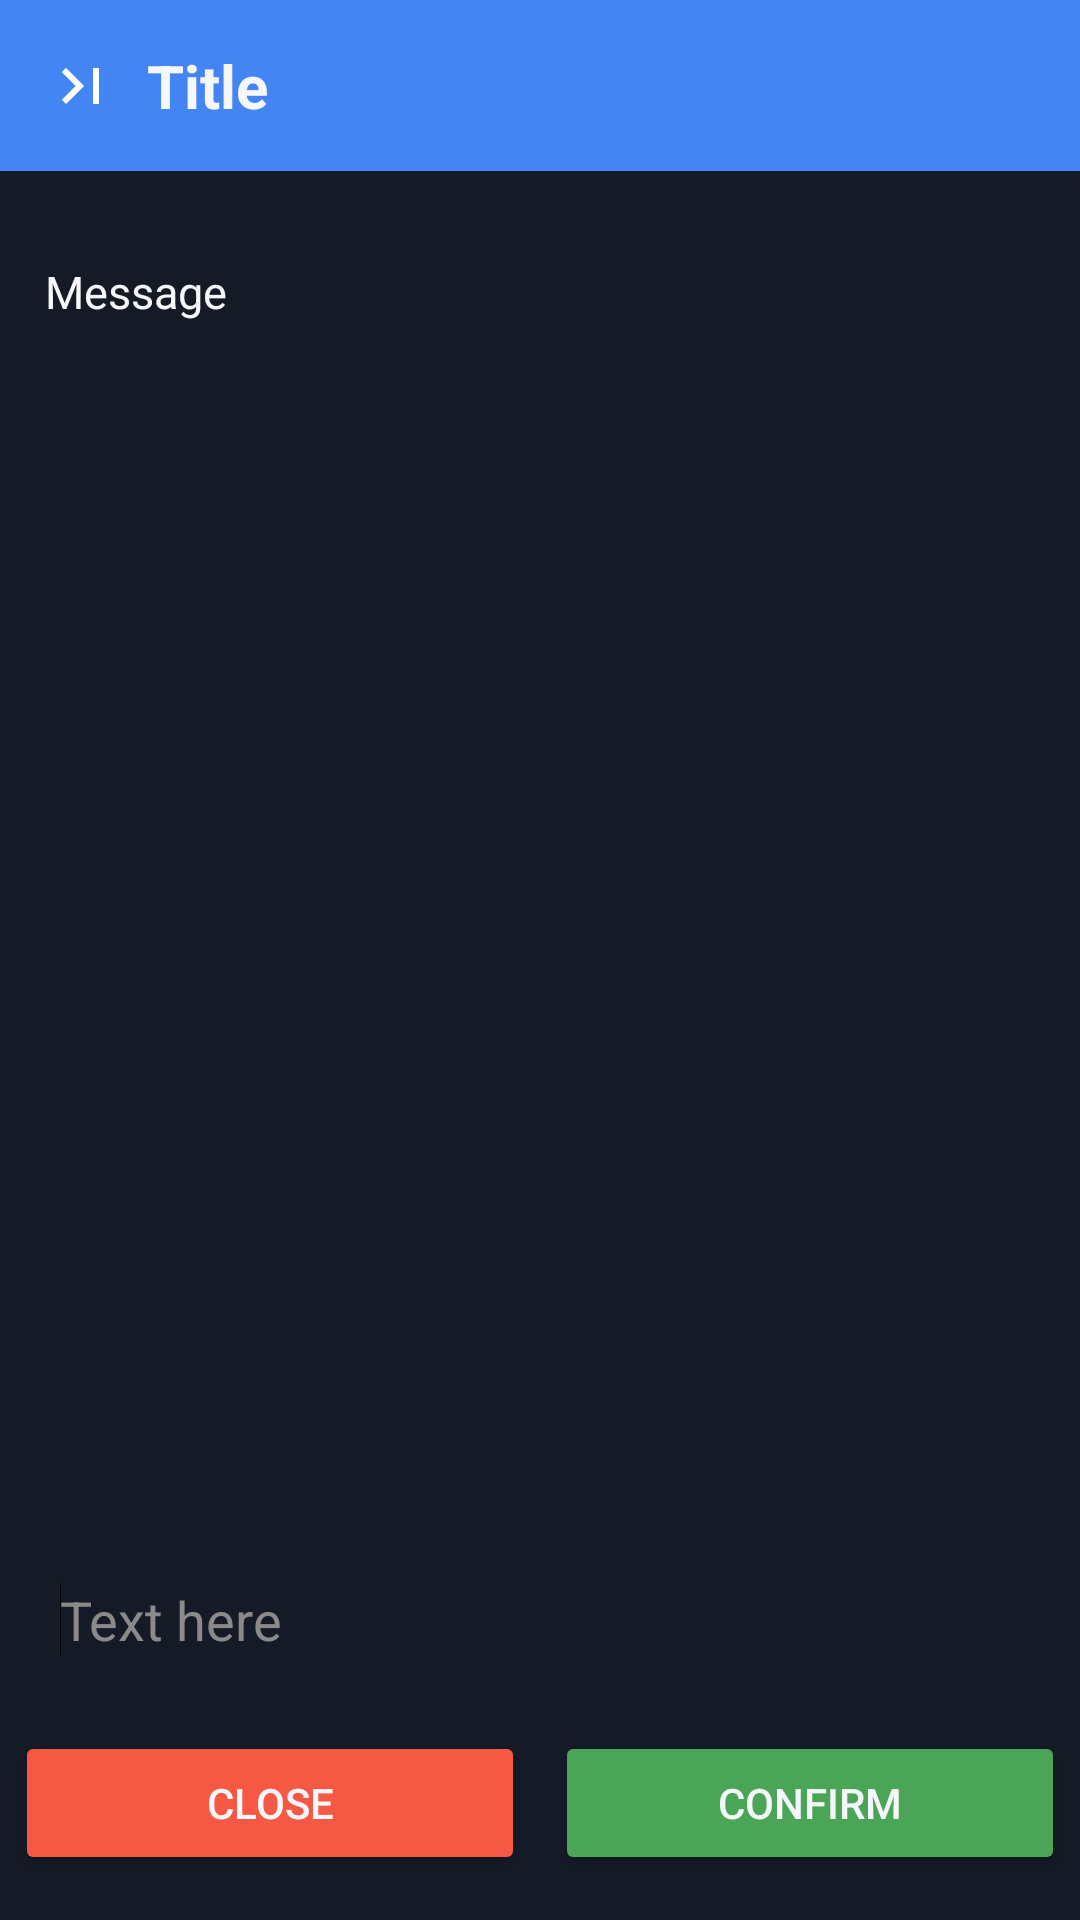

Screen size 1080 × 1920. Icon name, then its center in pixels as (x=x, y=y):
goto page: (x=80, y=86)
